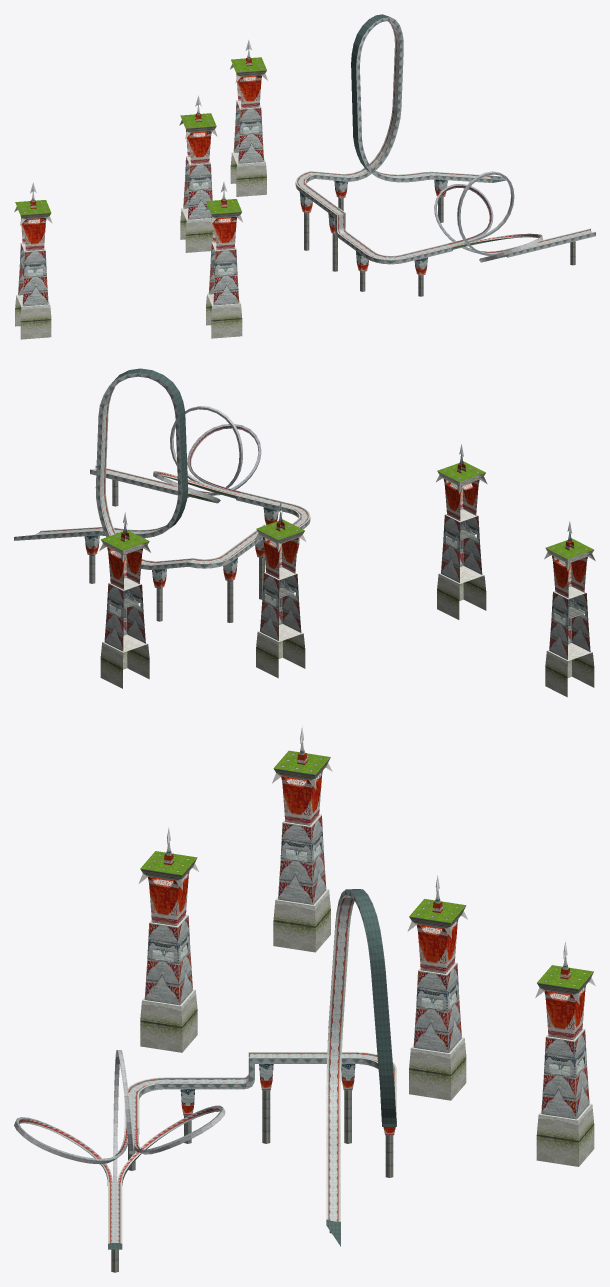
The model's file is Chunk7.obj.
The picture shows the model from 3 angles, top to bottom: view 1: azimuth 30°, elevation 25°; view 2: azimuth 150°, elevation 25°; view 3: azimuth 270°, elevation 25°; orthographic projection. The views are drawn at different scales.
Size of the model in its own units: 7552 by 2960 by 5195.
Materials: 15 (15 with a texture image).
